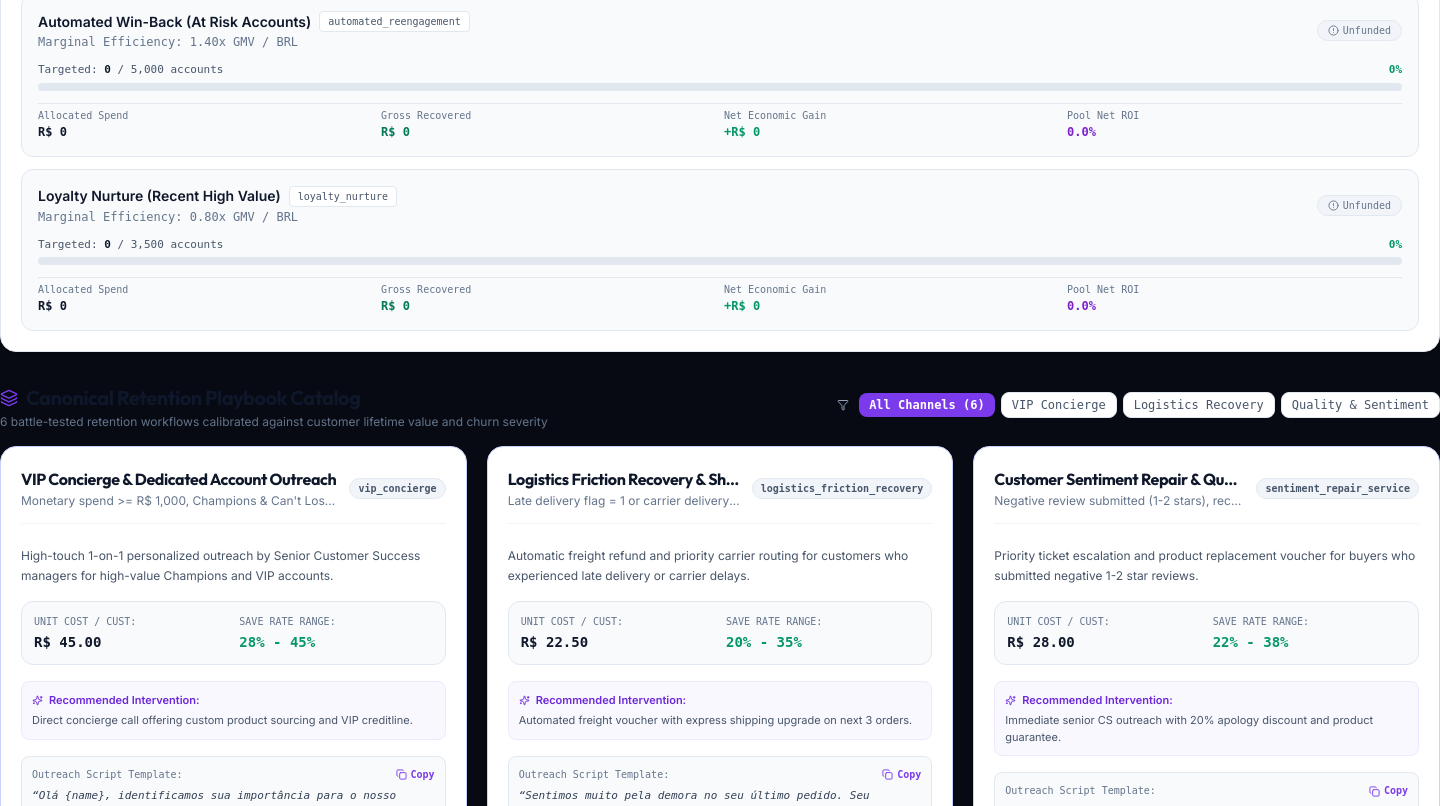
Scenario: RetentionPlannerView Component › filters playbooks by channel when filter buttons are clicked
(page scrolled)
Expected: the heading "VIP Concierge & Dedicated Account Outreach" is shown, [21, 467, 337, 491]
Click the button "Logistics Recovery" at (1199, 405), box [1123, 392, 1275, 418]
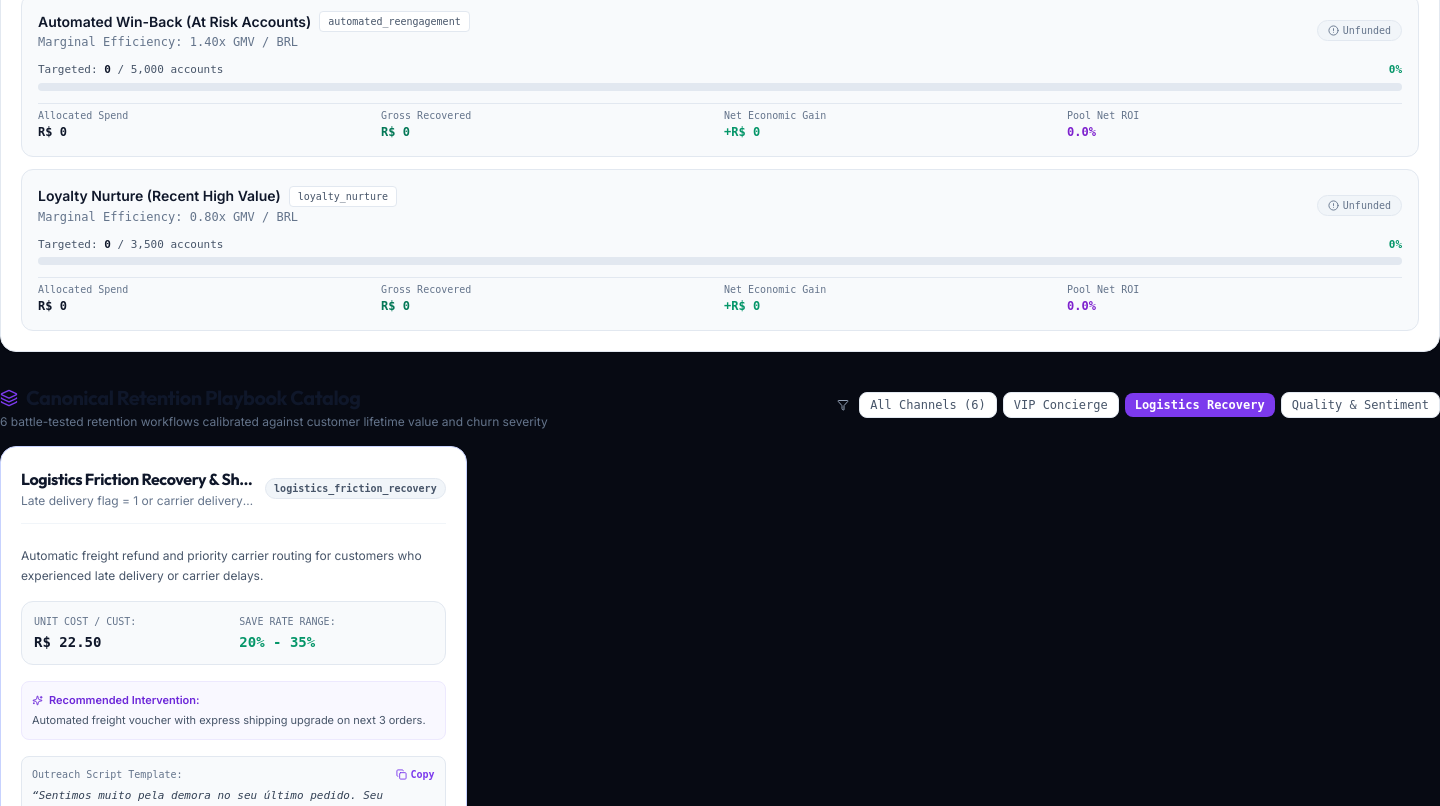
Expected: the heading "Logistics Friction Recovery & Shipping Waiver" is shown, [21, 467, 253, 491]
Now the heading "VIP Concierge & Dedicated Account Outreach" is gone
